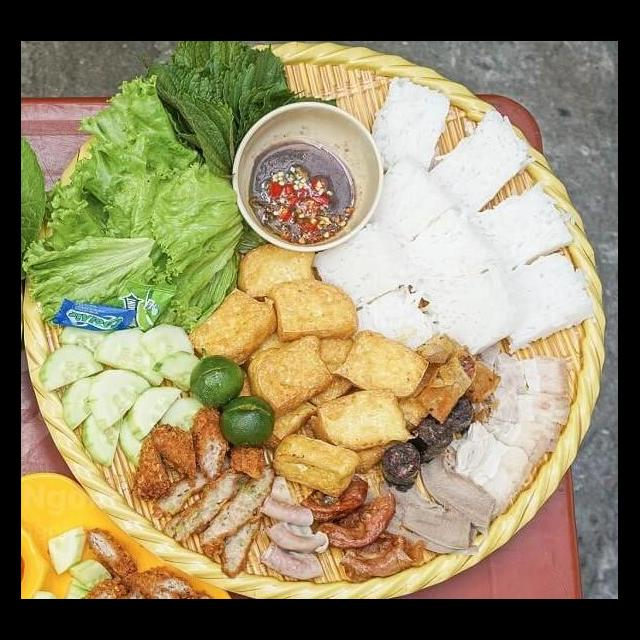bun: (302, 136, 532, 353), (433, 179, 602, 357), (422, 101, 542, 221), (364, 74, 459, 179)
bun dau: (25, 76, 618, 599)
cha com: (128, 403, 288, 586), (70, 523, 214, 599)
dau hu: (298, 318, 434, 410), (185, 283, 286, 376), (240, 324, 340, 416), (264, 269, 370, 351), (304, 384, 420, 451), (266, 422, 366, 498), (232, 237, 330, 308)
doi sun: (376, 437, 428, 497), (400, 407, 456, 461), (434, 390, 482, 434)
thit heo: (444, 337, 580, 516)
